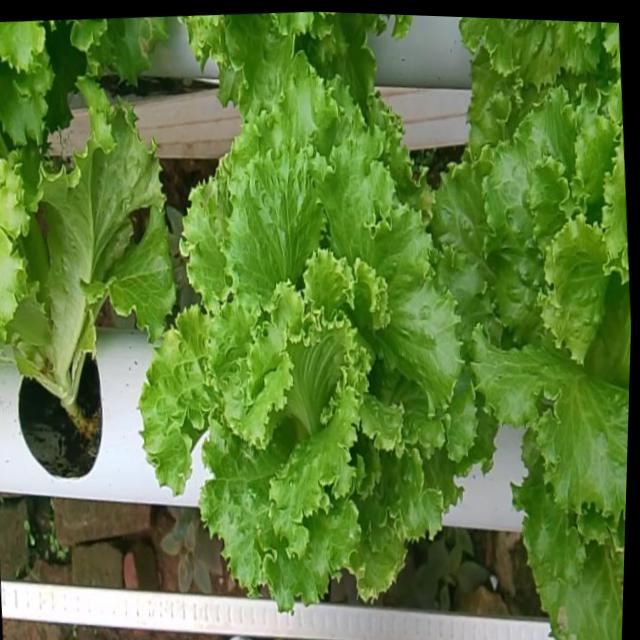Mature: (134, 92, 470, 633), (427, 104, 631, 546)
